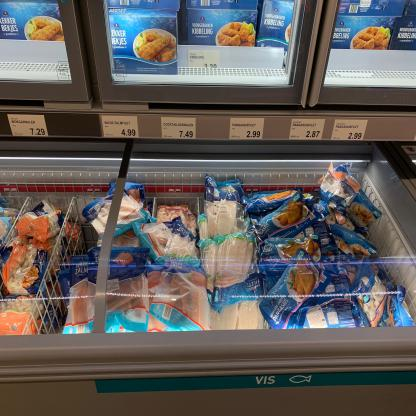prtg: (8, 115, 50, 138), (102, 117, 140, 139), (230, 118, 266, 141), (163, 118, 198, 141), (331, 120, 369, 141), (290, 120, 327, 141)
